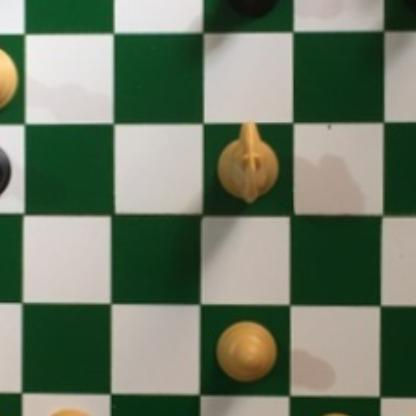black-pawn: (219, 0, 281, 22), (0, 139, 15, 204), (397, 0, 416, 22)
white-knight: (215, 117, 279, 208)
white-pawn: (215, 315, 279, 388), (37, 404, 106, 416), (301, 410, 370, 416), (390, 410, 416, 416), (0, 404, 12, 416)
white-queen: (0, 32, 21, 110)
